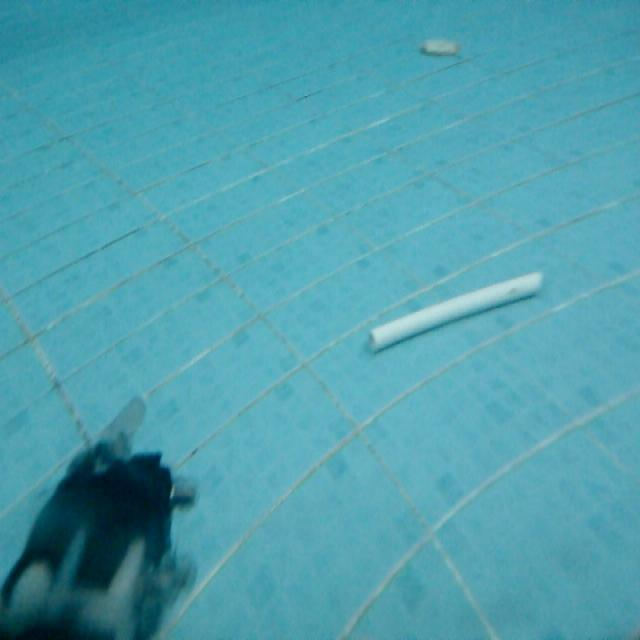Cube: (364, 264, 545, 355)
